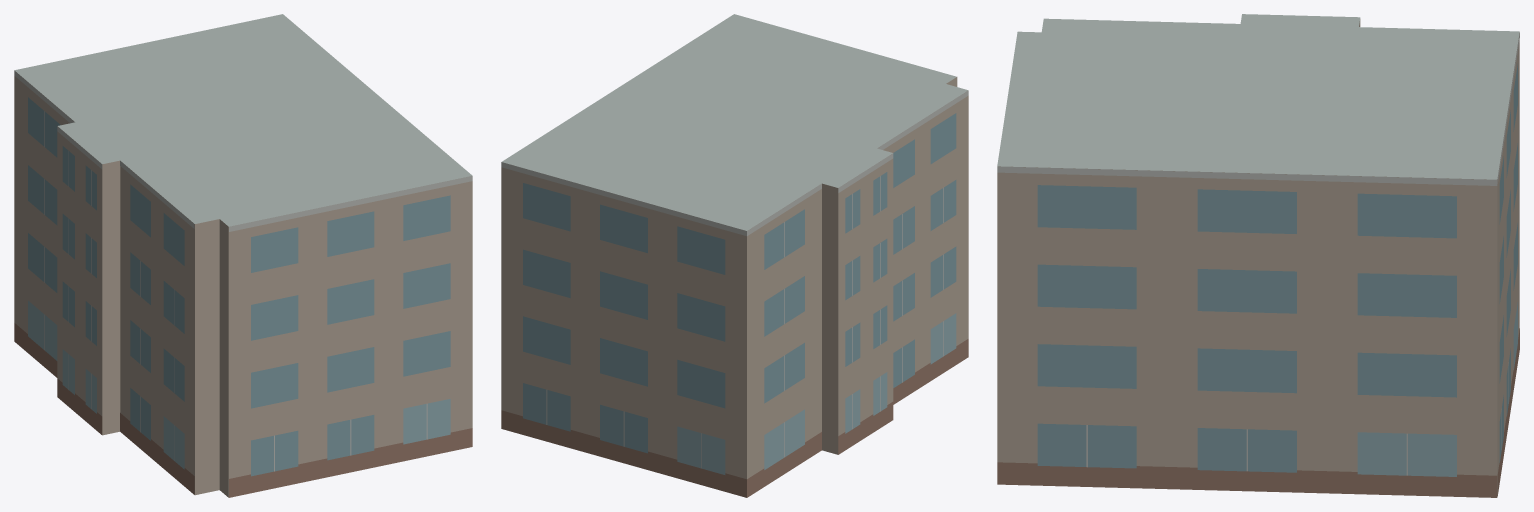
The model's file is survey-upis-32704969.glb.
The picture shows the model from 3 angles, left to right: view 1: azimuth 30°, elevation 25°; view 2: azimuth 150°, elevation 25°; view 3: azimuth 270°, elevation 25°; orthographic projection. The views are drawn at different scales.
Visible parts, largest first — view 1: survey-upis-32704969.tmp; view 2: survey-upis-32704969.tmp; view 3: survey-upis-32704969.tmp.
Part boxes in pixels (<box>): survey-upis-32704969.tmp: <box>14,14,472,497</box>; survey-upis-32704969.tmp: <box>501,14,968,497</box>; survey-upis-32704969.tmp: <box>997,14,1519,497</box>.
Size of the model in its own units: 13.86 by 12.4 by 18.47.
